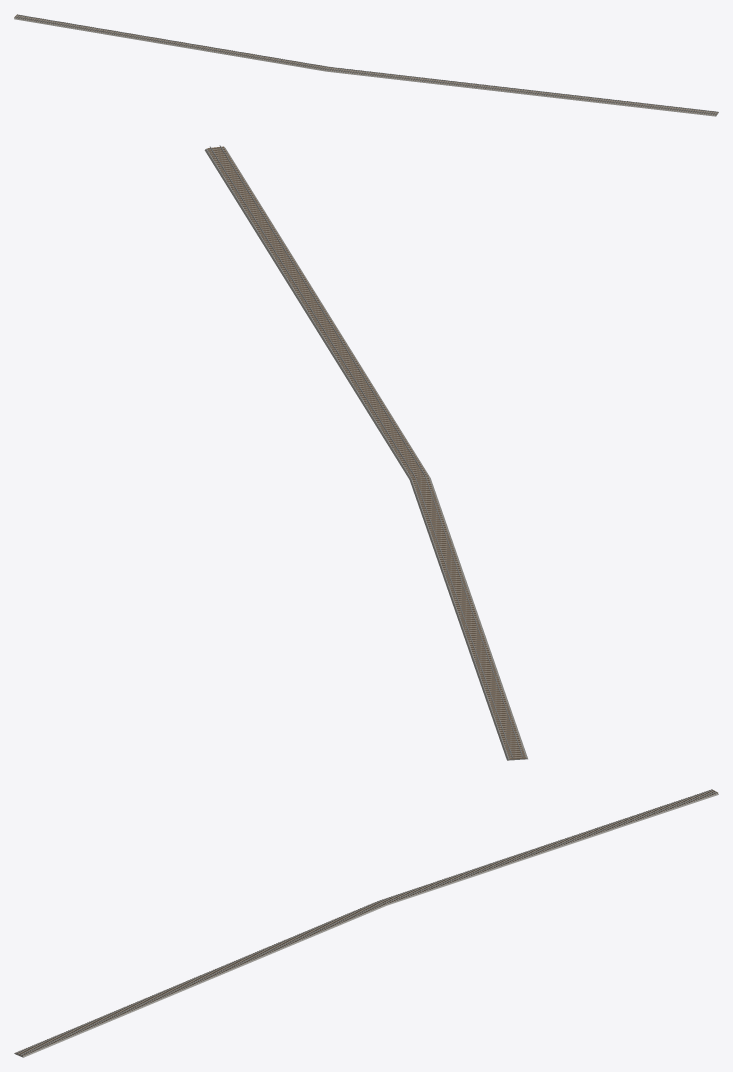
Rendered from rail_01221.glb.
The picture shows the model from 3 angles, top to bottom: view 1: azimuth 30°, elevation 25°; view 2: azimuth 150°, elevation 25°; view 3: azimuth 270°, elevation 25°; orthographic projection. The views are drawn at different scales.
Parts seen in each view (by area): view 1: Ballast, Sleepers, Rails; view 2: Sleepers, Ballast, Rails; view 3: Ballast, Sleepers, Rails.
Boxes of the visible parts, <box> form: Ballast: <box>14,15,718,116</box>; Sleepers: <box>14,14,717,115</box>; Rails: <box>15,14,717,114</box>; Sleepers: <box>207,146,525,759</box>; Ballast: <box>204,147,527,760</box>; Rails: <box>210,145,522,757</box>; Ballast: <box>14,790,718,1057</box>; Sleepers: <box>15,789,717,1055</box>; Rails: <box>16,789,716,1055</box>.
Size of the model in its own units: 139 by 0.48 by 155.
